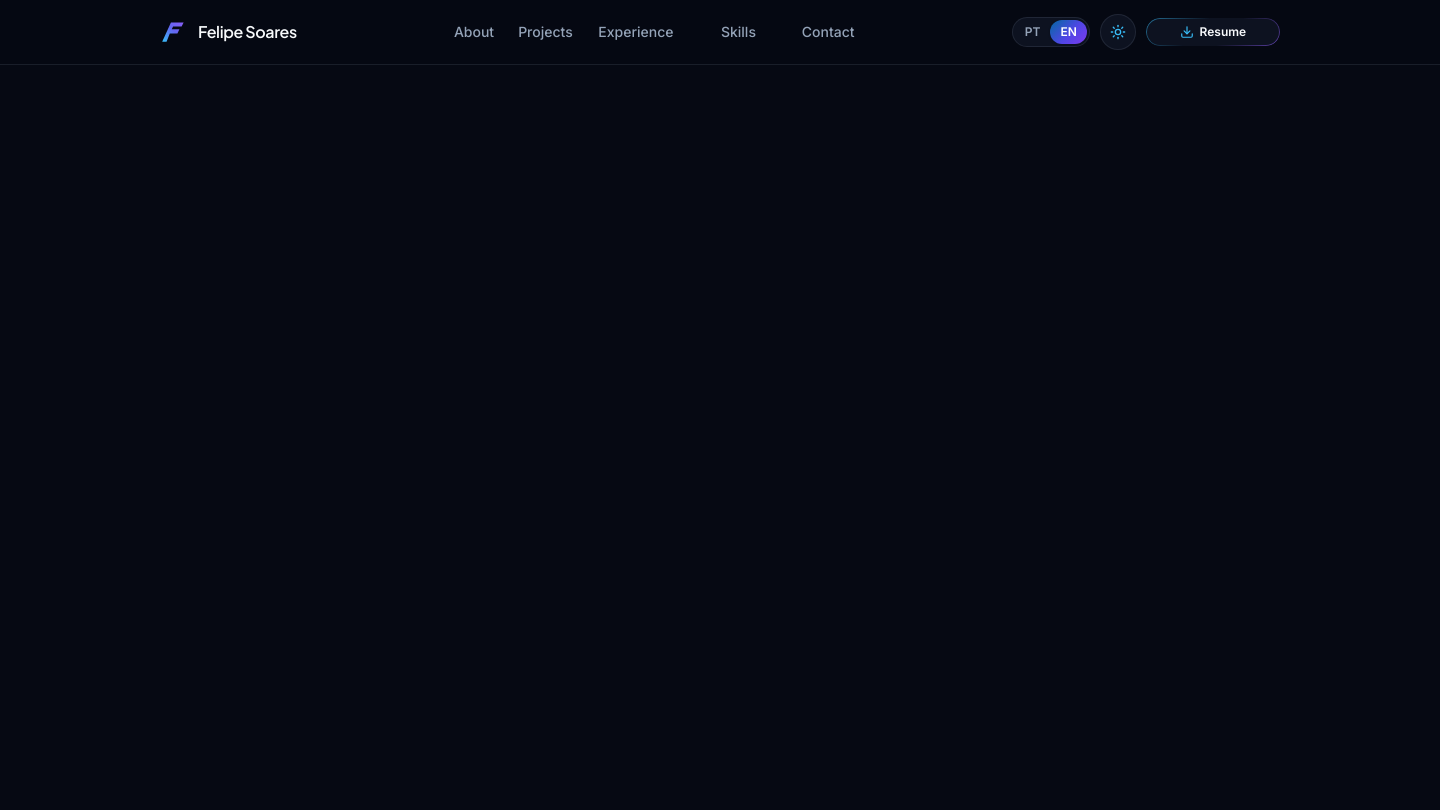
Test: Header & SkipLink › switches language to pt-BR and toggles theme to light with Label-in-Name compliant labels
Click the button "PT" at [1033, 32], box 1015,20 -> 1050,44
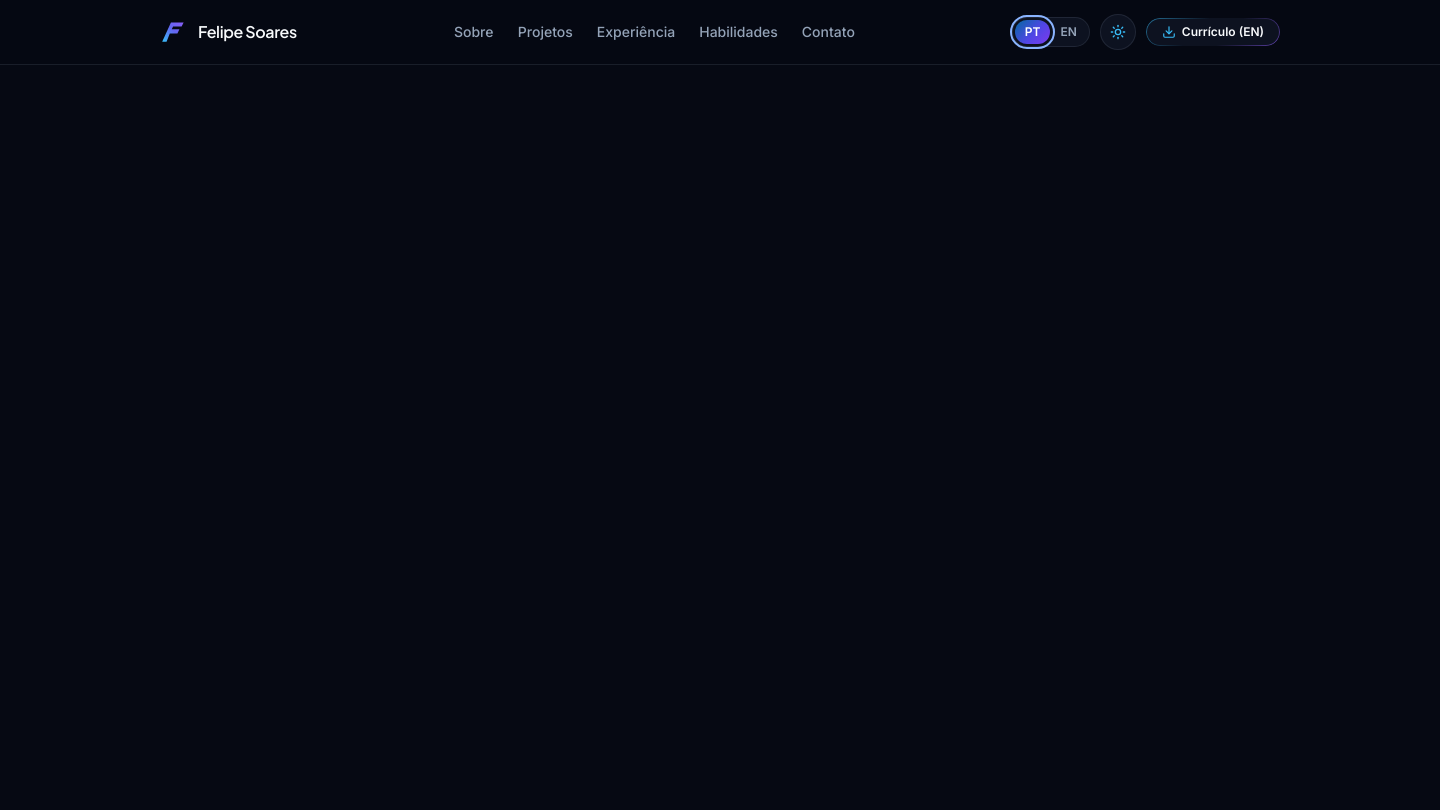
Check: the link "Experiência" is shown, box 597,22 -> 675,42
Check: the link "Currículo (EN)" is shown, box 1146,18 -> 1280,46
Click the button named "alternar para tema claro" at [1118, 32], box 1100,14 -> 1136,50
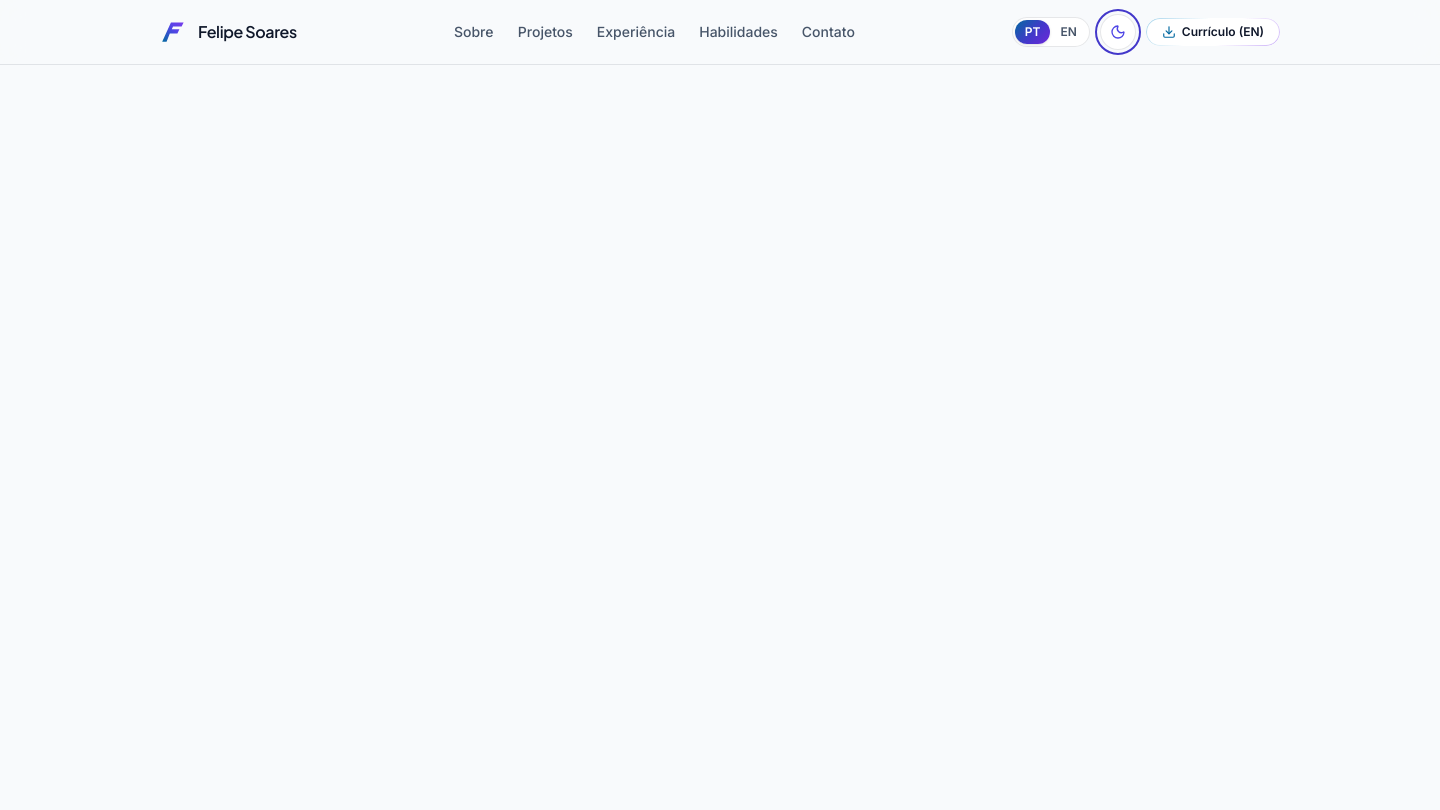
Check: the button named "alternar para tema escuro" is shown, box 1100,14 -> 1136,50
